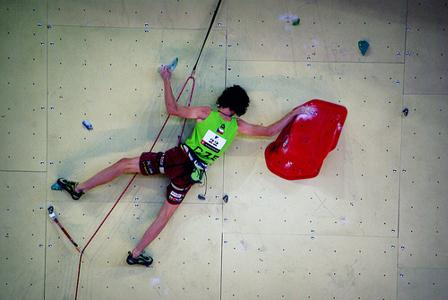person: (59, 65, 317, 267)
